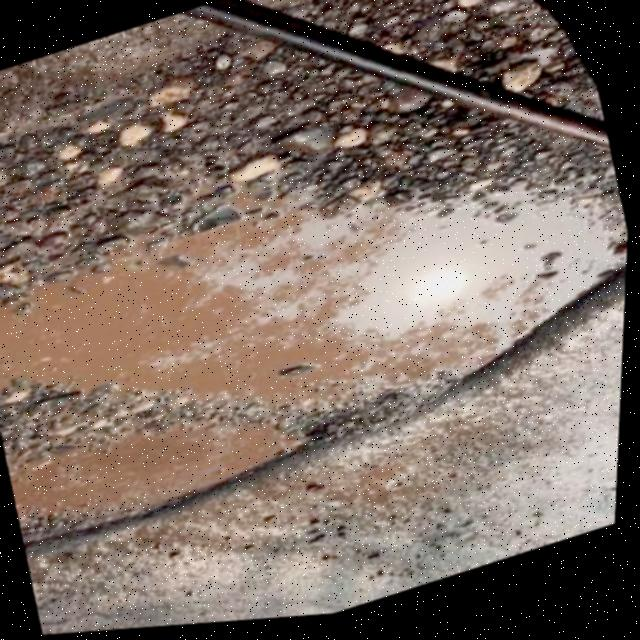Pothole: (0, 69, 636, 569)
